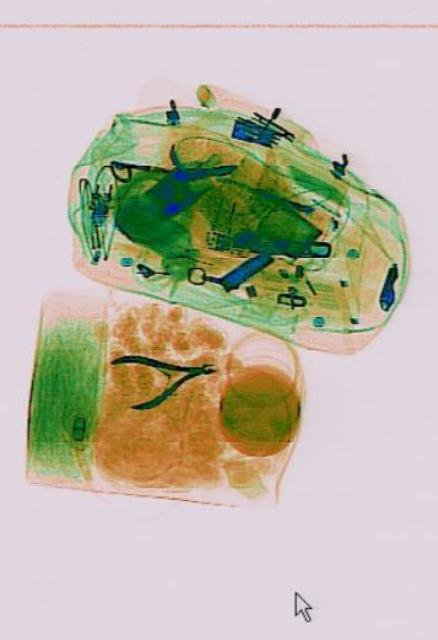Pliers: (107, 334, 216, 414)
